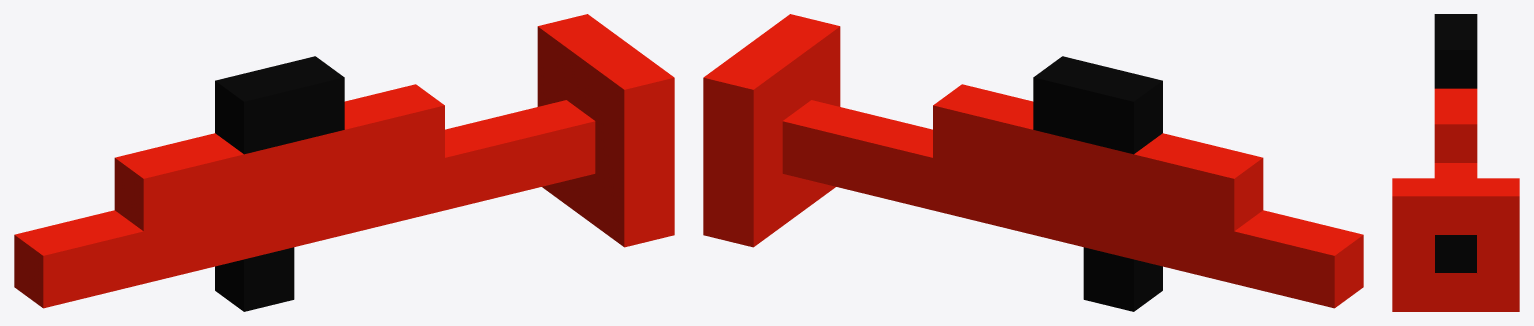
The model's file is BallLauncher.dae.
3 renders of one model, left to right at view 1: azimuth 30°, elevation 25°; view 2: azimuth 150°, elevation 25°; view 3: azimuth 270°, elevation 25°, orthographic. The views are drawn at different scales.
Parts seen in each view (by area): view 1: BallLauncher; view 2: BallLauncher; view 3: BallLauncher.
Boxes of the visible parts, left/top/right/bottom form: BallLauncher: left=14, top=14, right=674, bottom=311; BallLauncher: left=703, top=14, right=1363, bottom=311; BallLauncher: left=1392, top=14, right=1519, bottom=311.
Bounding box in the file's own units: 12 × 4 × 3.
Materials: 1 (1 with a texture image).
